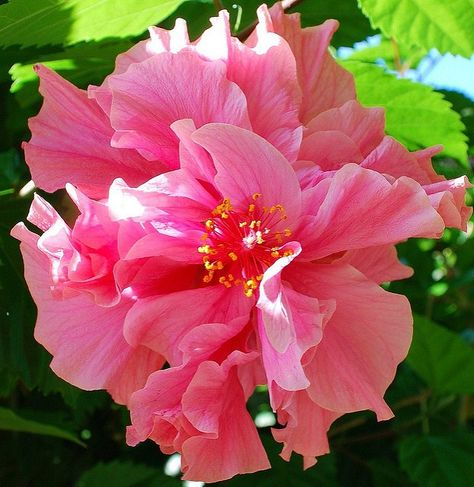Hibiscus: (23, 19, 468, 483)
